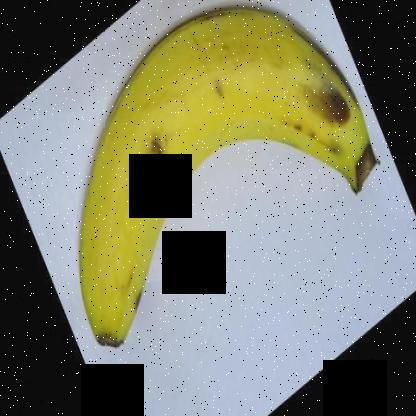freshripe: (67, 1, 392, 368)
